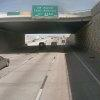Bridge: (5, 3, 92, 36)
